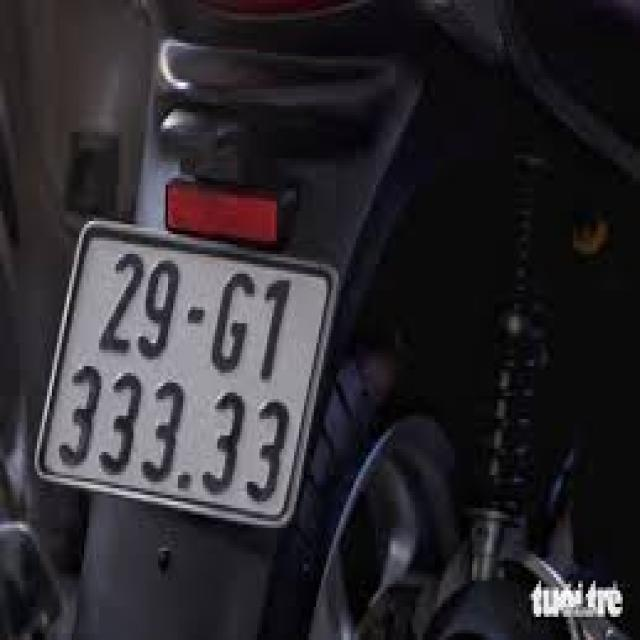a: (35, 211, 349, 562)
bien so: (32, 188, 365, 605)
